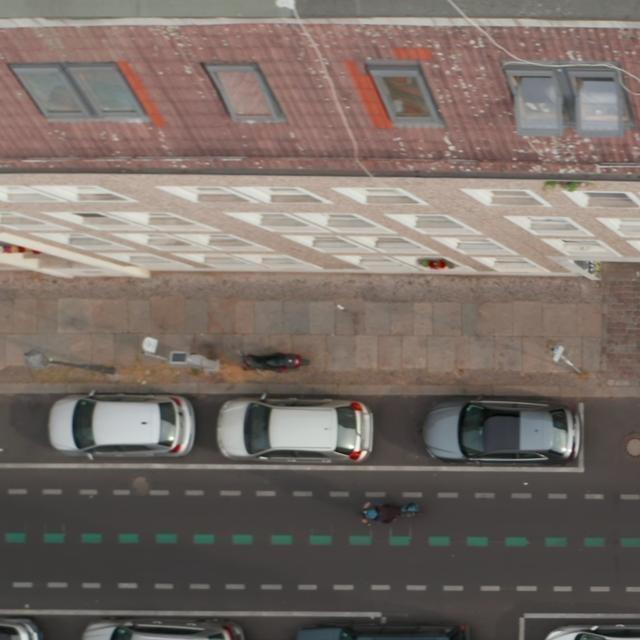Car: (216, 395, 376, 464), (421, 400, 583, 464), (48, 393, 197, 459), (80, 618, 248, 640), (292, 622, 473, 640), (540, 621, 640, 640), (1, 616, 46, 640)
Motorcycle: (235, 349, 311, 379), (358, 498, 423, 526)
